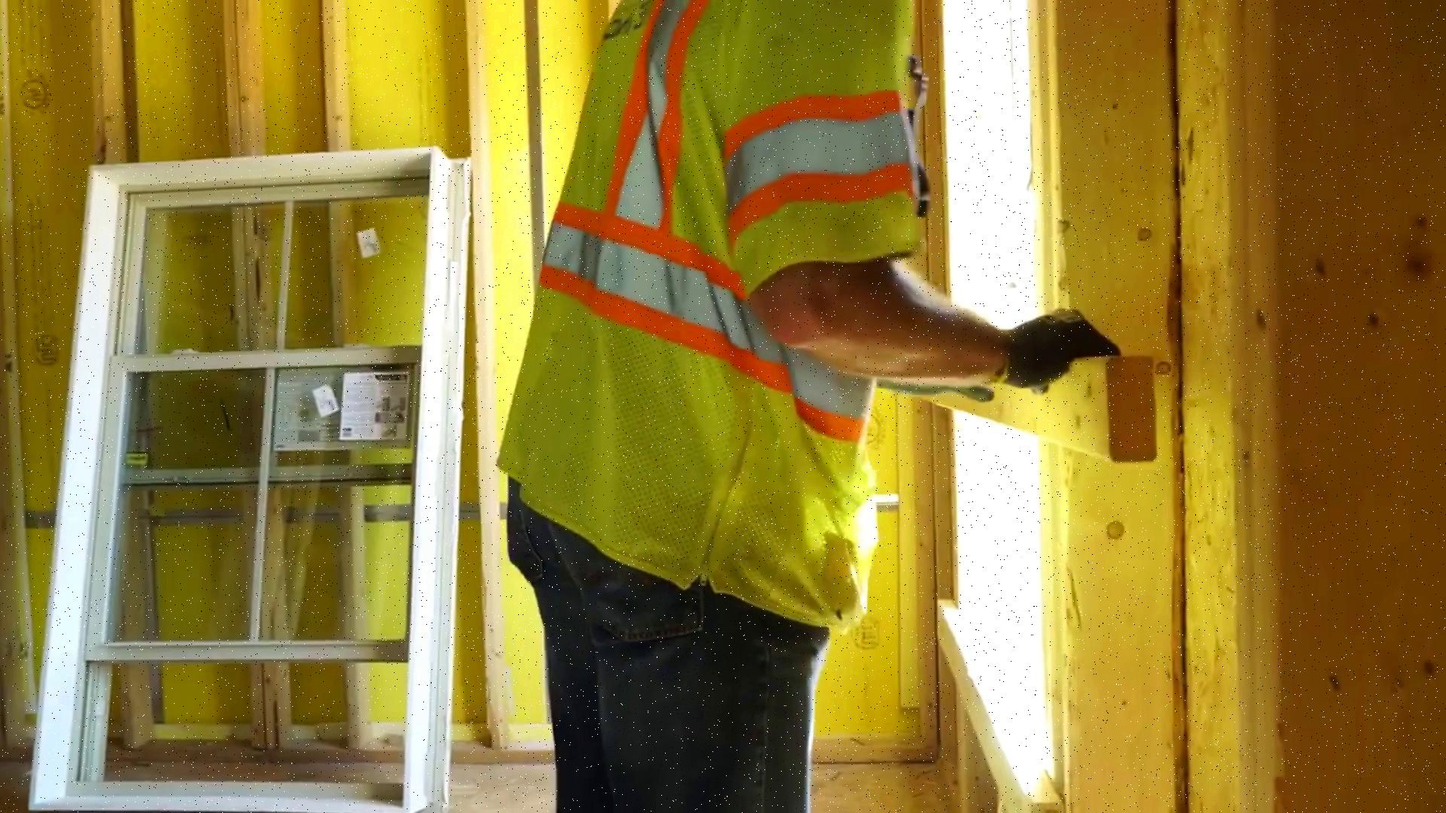Vest: (524, 0, 902, 669)
